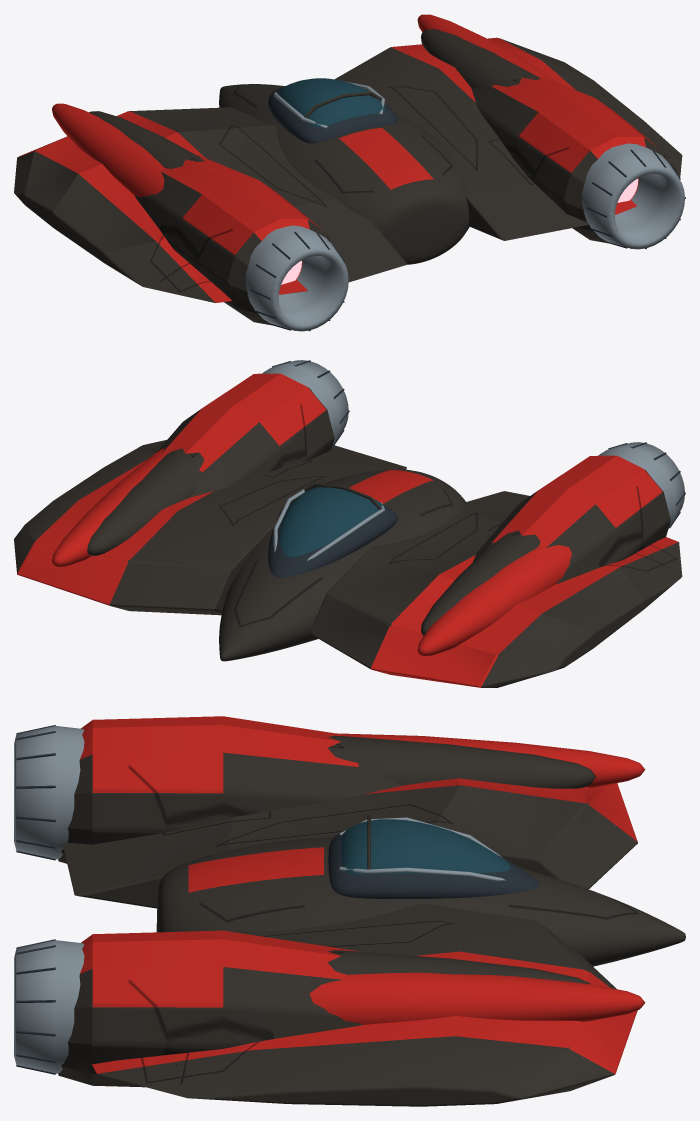
3 views of the same model, one above another, from view 1: azimuth 30°, elevation 25°; view 2: azimuth 150°, elevation 25°; view 3: azimuth 270°, elevation 25° (orthographic). The views are drawn at different scales.
Parts seen in each view (by area): view 1: ArcadeLegendV2; view 2: ArcadeLegendV2; view 3: ArcadeLegendV2.
Part boxes in pixels (<box>): ArcadeLegendV2: <box>14,14,685,331</box>; ArcadeLegendV2: <box>14,360,685,687</box>; ArcadeLegendV2: <box>14,716,685,1106</box>.
Bounding box in the file's own units: 3.32 × 0.7206 × 2.73.
Materials: 6 (2 with a texture image).
